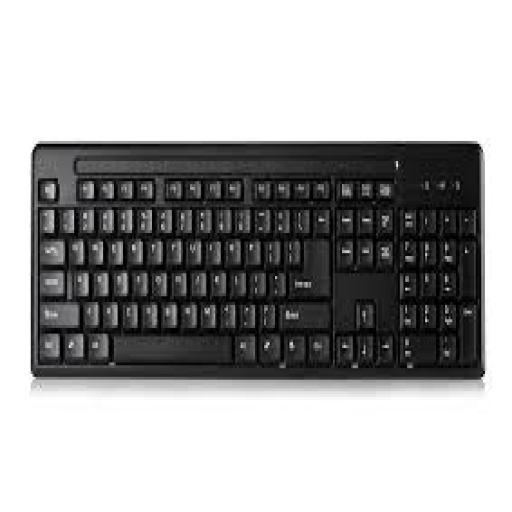keyboard: (31, 141, 483, 374)
